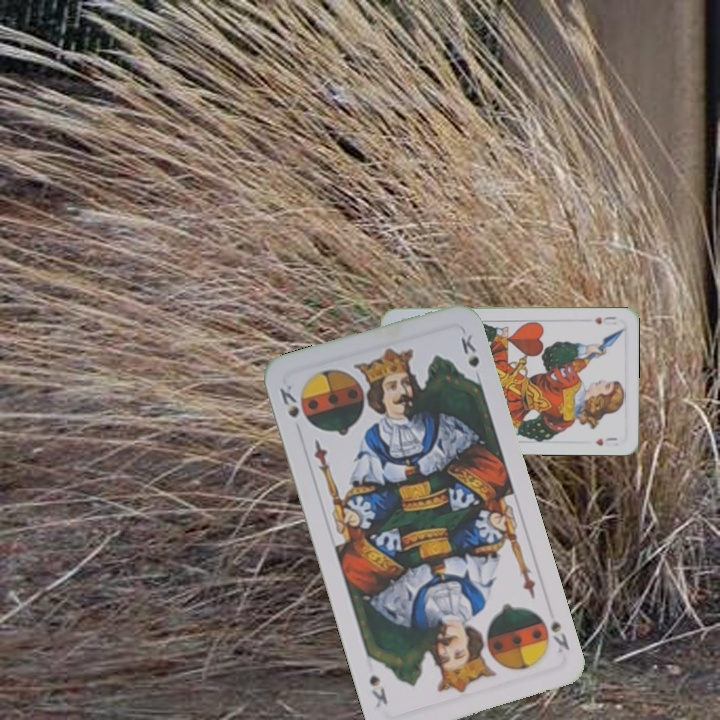HU: (590, 313, 619, 327)
SK: (275, 380, 302, 421), (546, 616, 573, 655)
